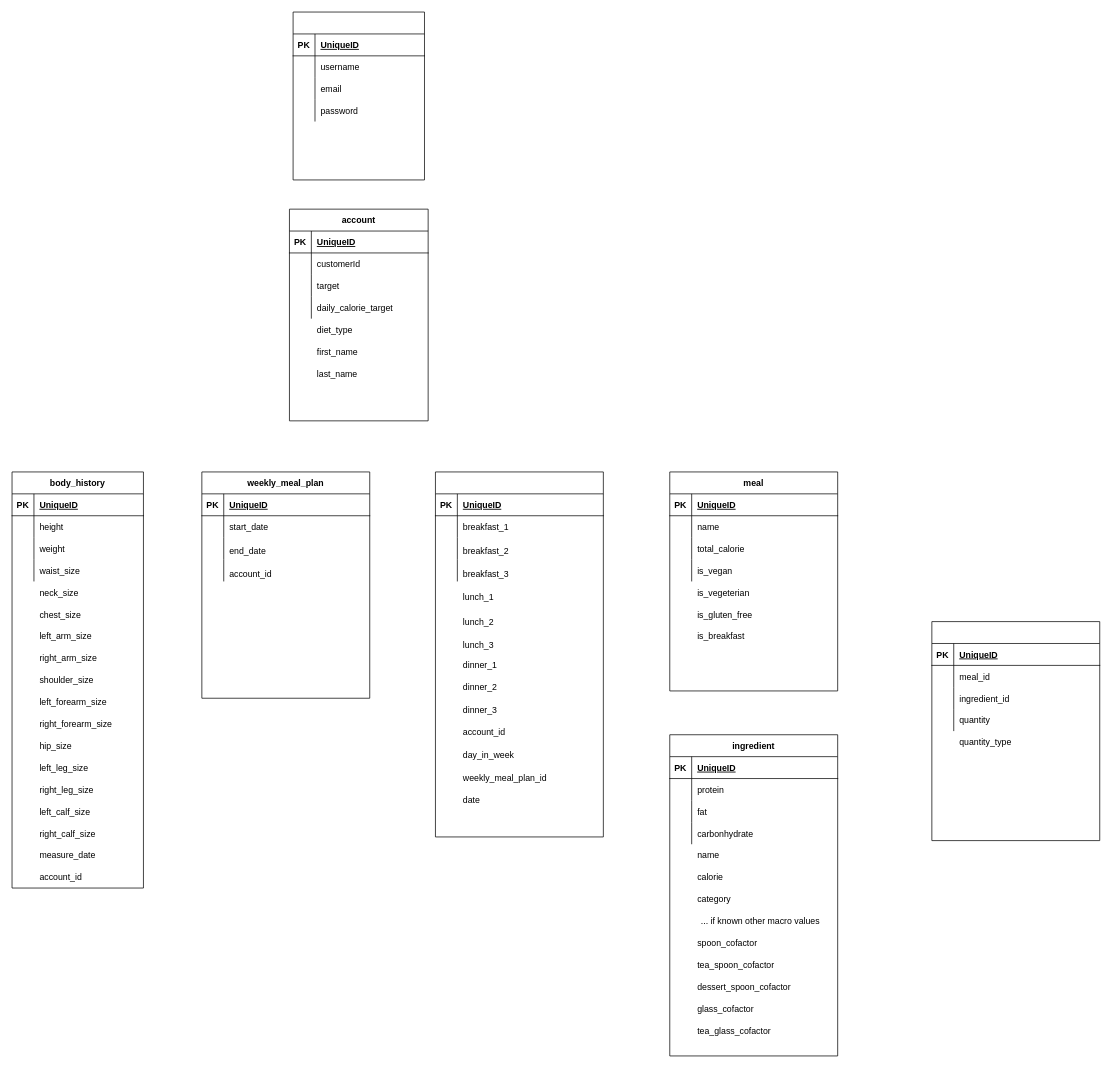
This 1112x1068 diagram has some shape labels left out. The box of each missing label's shape, as (x1, y1, x2, y2) in pixels:
customer: (292, 11, 424, 180)
daily_meal_plan: (435, 471, 603, 837)
meal_ingredient_relation: (931, 621, 1100, 841)
